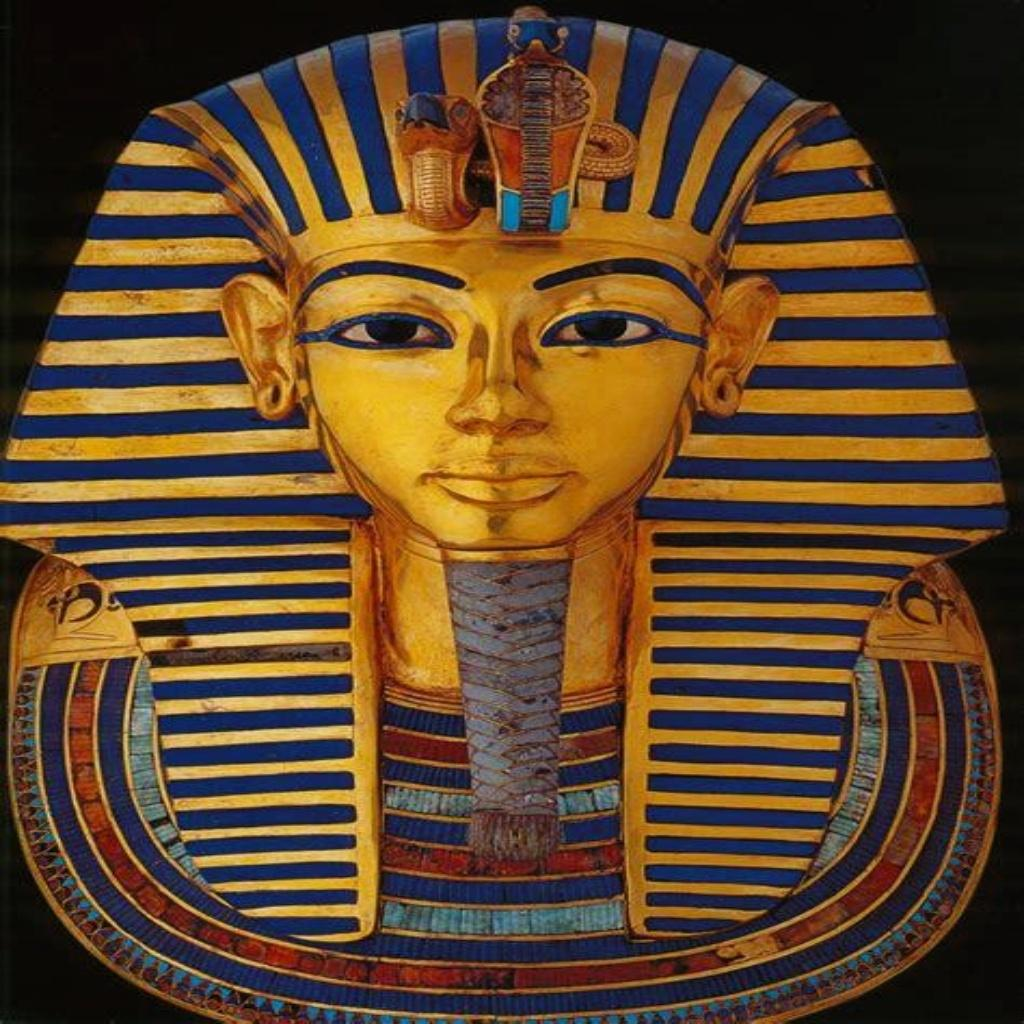Mask of Tutankhamun: (2, 6, 1011, 1021)
